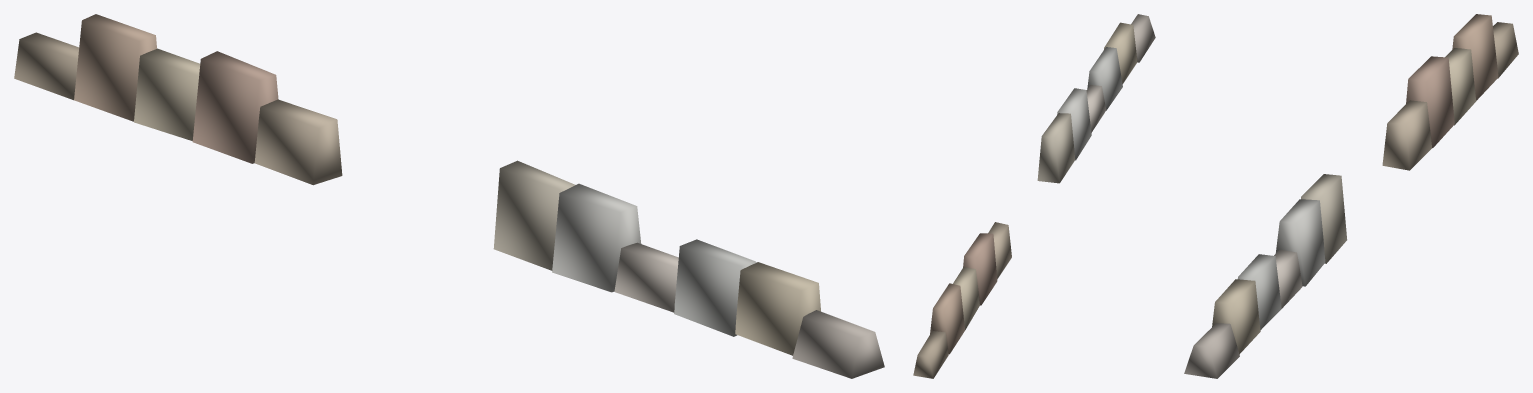
The model's file is farm_-9_0_far.glb.
3 renders of one model, left to right at view 1: azimuth 30°, elevation 25°; view 2: azimuth 150°, elevation 25°; view 3: azimuth 330°, elevation 25°, orthographic. The views are drawn at different scales.
Visible parts, largest first — view 1: geometry_0; view 2: geometry_0; view 3: geometry_0.
Boxes of the visible parts, x1,y1,x2,y2 form: geometry_0: (14,14,884,378); geometry_0: (913,14,1155,378); geometry_0: (1184,14,1518,378).
Size of the model in its own units: 5.05 by 2.79 by 20.6.
